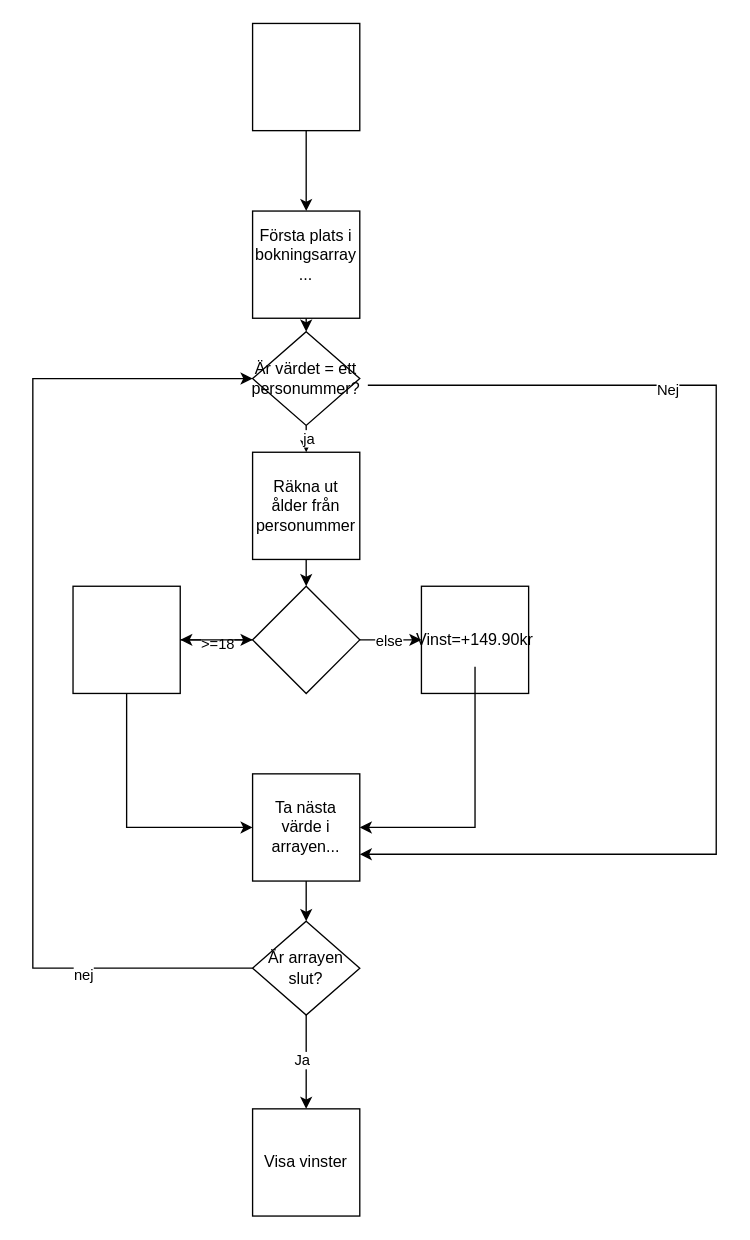
This 750x1240 diagram has some shape labels left out. Here are the shapes that lost their labels. From the top down, the centre of each, then its label:
pixel 305 76: Räkna ut vinst
pixel 126 639: Vinst=+299.90kr
pixel 305 639: Hur gammal?
